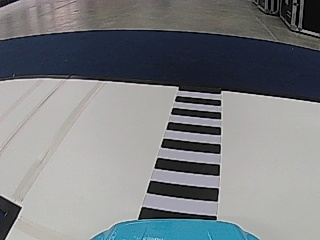CrossWalk: (139, 87, 224, 215)
